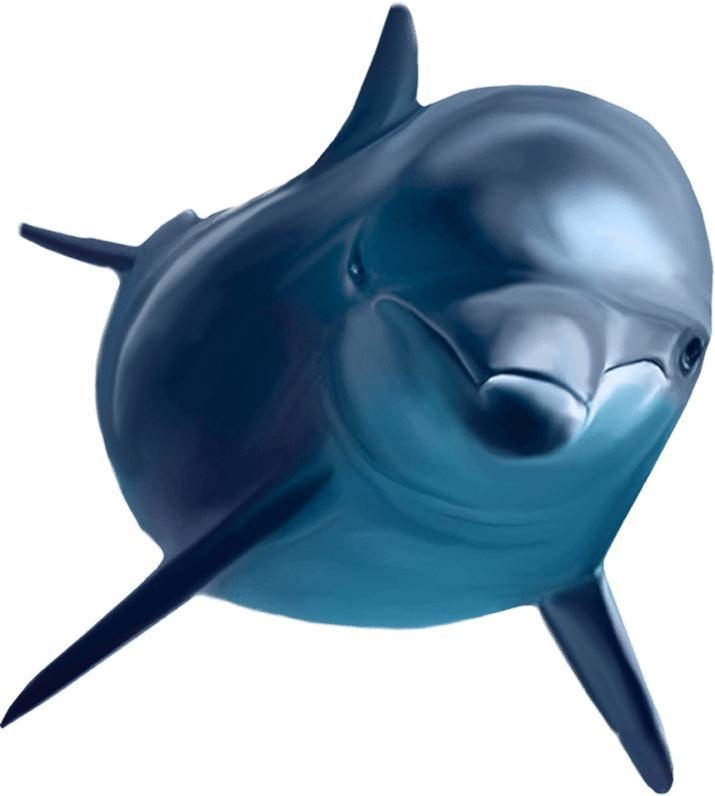fish: (1, 1, 715, 790)
